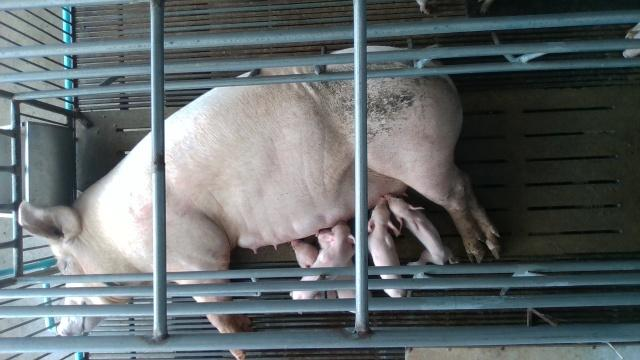piglet: (384, 195, 460, 266), (289, 220, 355, 300), (315, 229, 372, 313), (368, 198, 407, 298)
sow-sleep-lactate: (17, 46, 500, 360)
